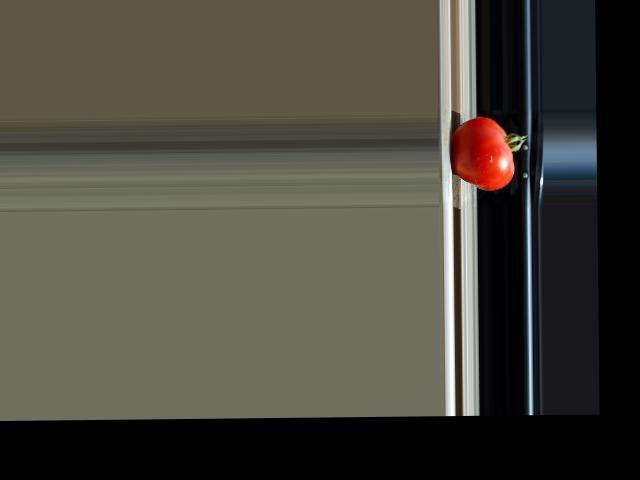tomato: (452, 116, 527, 190)
